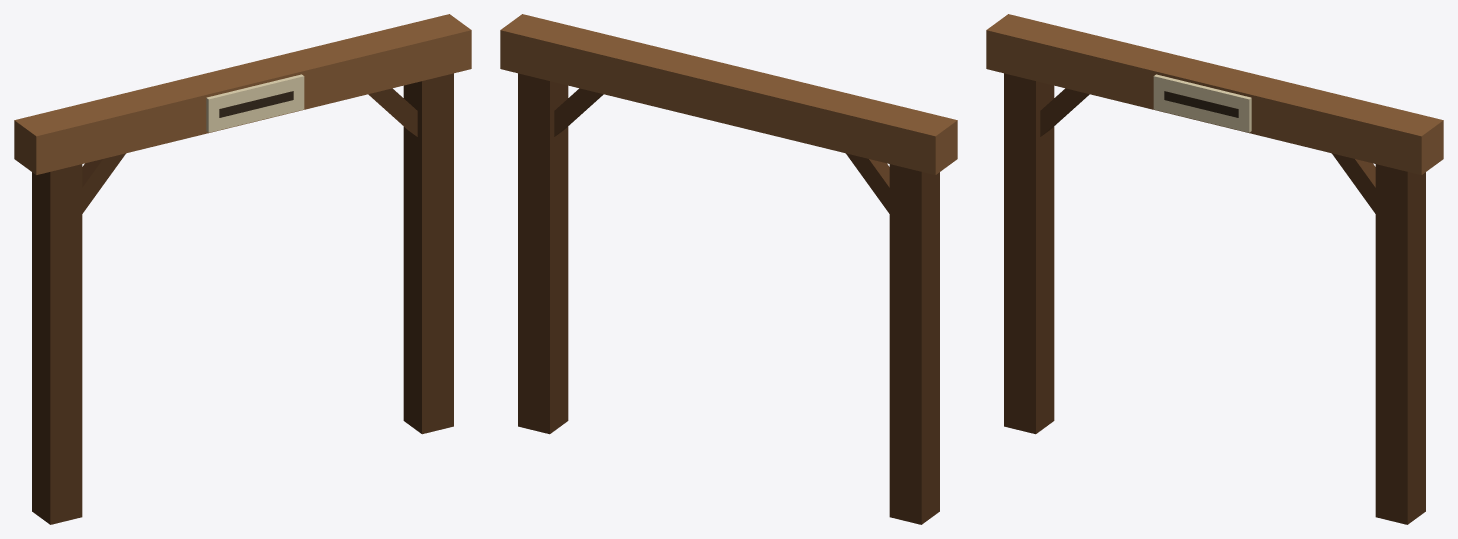
The model's file is mine_frame.glb.
3 renders of one model, left to right at view 1: azimuth 30°, elevation 25°; view 2: azimuth 150°, elevation 25°; view 3: azimuth 330°, elevation 25°, orthographic.
Parts seen in each view (by area): view 1: mine_frame; view 2: mine_frame; view 3: mine_frame.
Part boxes in pixels (x1,y1,x2,y2): mine_frame: (14,14,471,524); mine_frame: (500,14,957,524); mine_frame: (986,14,1443,524).
Size of the model in its own units: 4.11 by 3.55 by 0.4031.
